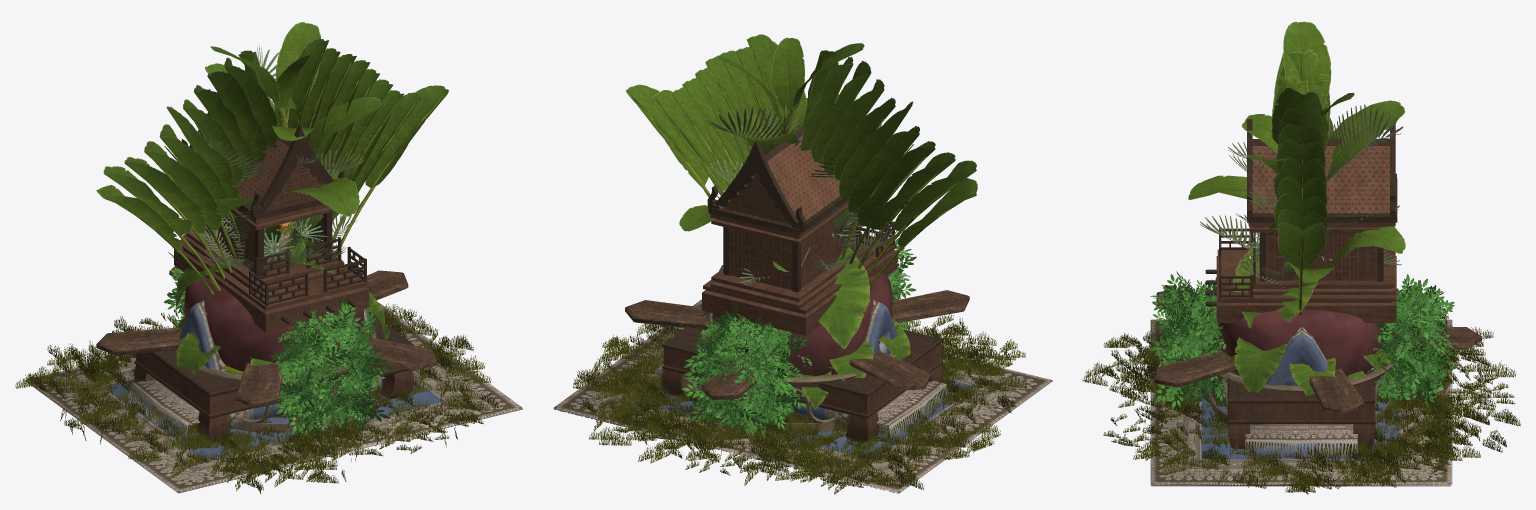
File: thaikit.glb
The picture shows the model from 3 angles, left to right: view 1: azimuth 30°, elevation 25°; view 2: azimuth 150°, elevation 25°; view 3: azimuth 270°, elevation 25°; orthographic projection. The views are drawn at different scales.
Visible parts, largest first — view 1: thai_travpalm_m, thai_grass_m, thai_spirit_m, thai_rug_m, thai_hedge_m, thai_banana_m, thai_ceilfan_m, thai_lowtable_m, thai_waterjar_m, thai_fern_m, thai_elephear_m, thai_runner_m (+3 smaller); view 2: thai_travpalm_m, thai_grass_m, thai_spirit_m, thai_rug_m, thai_hedge_m, thai_lowtable_m, thai_ceilfan_m, thai_banana_m, thai_elephear_m, thai_waterjar_m, thai_fern_m, thai_runner_m (+2 smaller); view 3: thai_grass_m, thai_spirit_m, thai_hedge_m, thai_rug_m, thai_travpalm_m, thai_banana_m, thai_waterjar_m, thai_lowtable_m, thai_elephear_m, thai_ceilfan_m, thai_fern_m, thai_runner_m (+2 smaller).
Part boxes in pixels (x1,y1,x2,y2): thai_travpalm_m: (96,38,449,294); thai_grass_m: (15,303,498,493); thai_spirit_m: (174,92,369,331); thai_rug_m: (25,302,522,493); thai_hedge_m: (164,252,391,439); thai_banana_m: (205,22,381,254); thai_ceilfan_m: (96,232,436,408); thai_lowtable_m: (134,312,414,440); thai_waterjar_m: (184,277,363,415); thai_fern_m: (191,44,364,269); thai_elephear_m: (173,229,389,394); thai_runner_m: (128,369,420,440); thai_travpalm_m: (625,34,977,289); thai_grass_m: (573,314,1027,494); thai_spirit_m: (702,104,897,420); thai_rug_m: (553,299,1052,493); thai_hedge_m: (681,232,916,438); thai_lowtable_m: (662,328,942,442); thai_ceilfan_m: (625,290,969,399); thai_banana_m: (679,37,864,271); thai_elephear_m: (699,248,910,409); thai_waterjar_m: (712,273,892,406); thai_fern_m: (703,106,899,284); thai_runner_m: (655,364,948,443); thai_grass_m: (1082,312,1520,494); thai_spirit_m: (1205,119,1397,322); thai_hedge_m: (1148,271,1457,409); thai_rug_m: (1150,319,1452,486); thai_travpalm_m: (1272,49,1333,315); thai_banana_m: (1188,21,1405,283); thai_waterjar_m: (1215,309,1388,376); thai_lowtable_m: (1227,368,1375,448); thai_elephear_m: (1217,245,1390,396); thai_ceilfan_m: (1154,289,1482,414); thai_fern_m: (1200,104,1403,290); thai_runner_m: (1245,424,1357,459).
Bounding box in the file's own units: 3.11 × 2.76 × 3.07.
53 materials, 51 textured.
